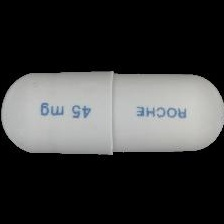0004-0801: (0, 0, 224, 224)
